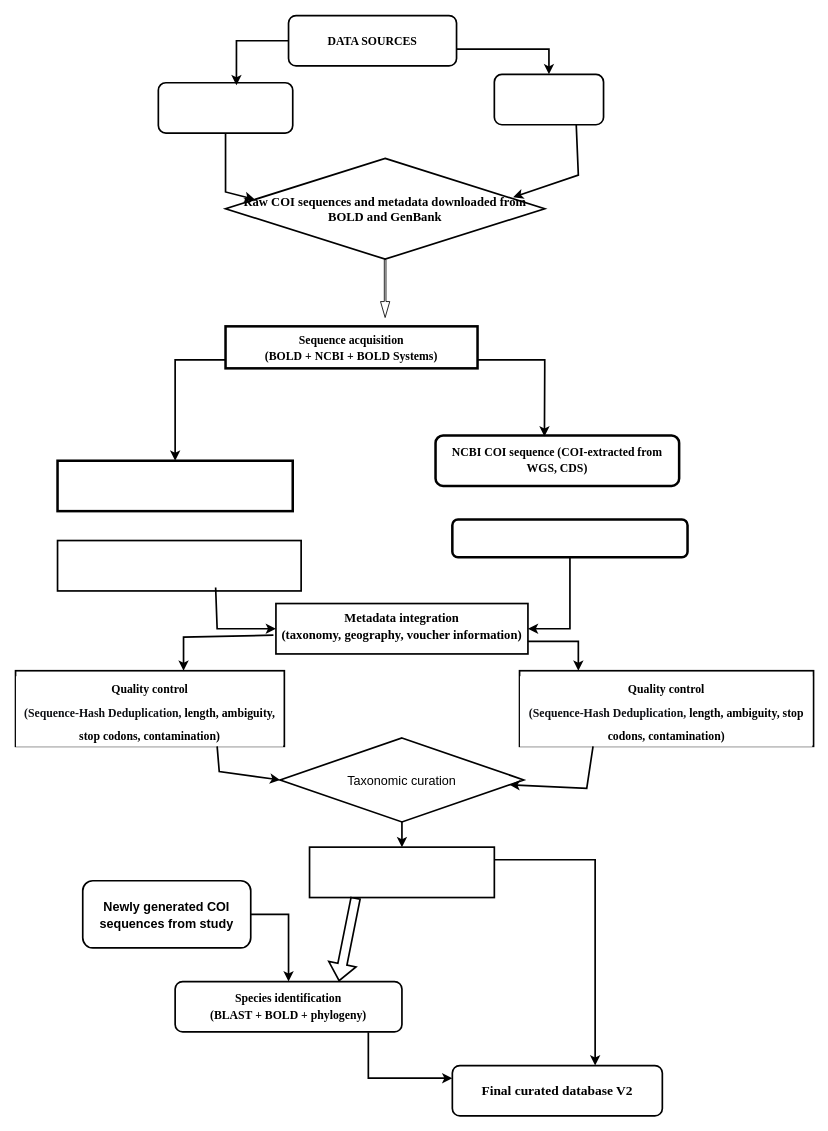
Image size: 828x1131. Some labels were removed from this diagram. The centre of each missing label's shape, as x and y in pixels:
BOLD Database sequence (COI-5P and COI-3P): the point at 179,565
BOLD Database sequence (sequence other than COI-removed): the point at 175,485
BOLD Systems: the point at 548,99
NCBI COI sequence only: the point at 569,538
NCBI GenBank: the point at 225,107
Reference COI Database V1: the point at 401,872
